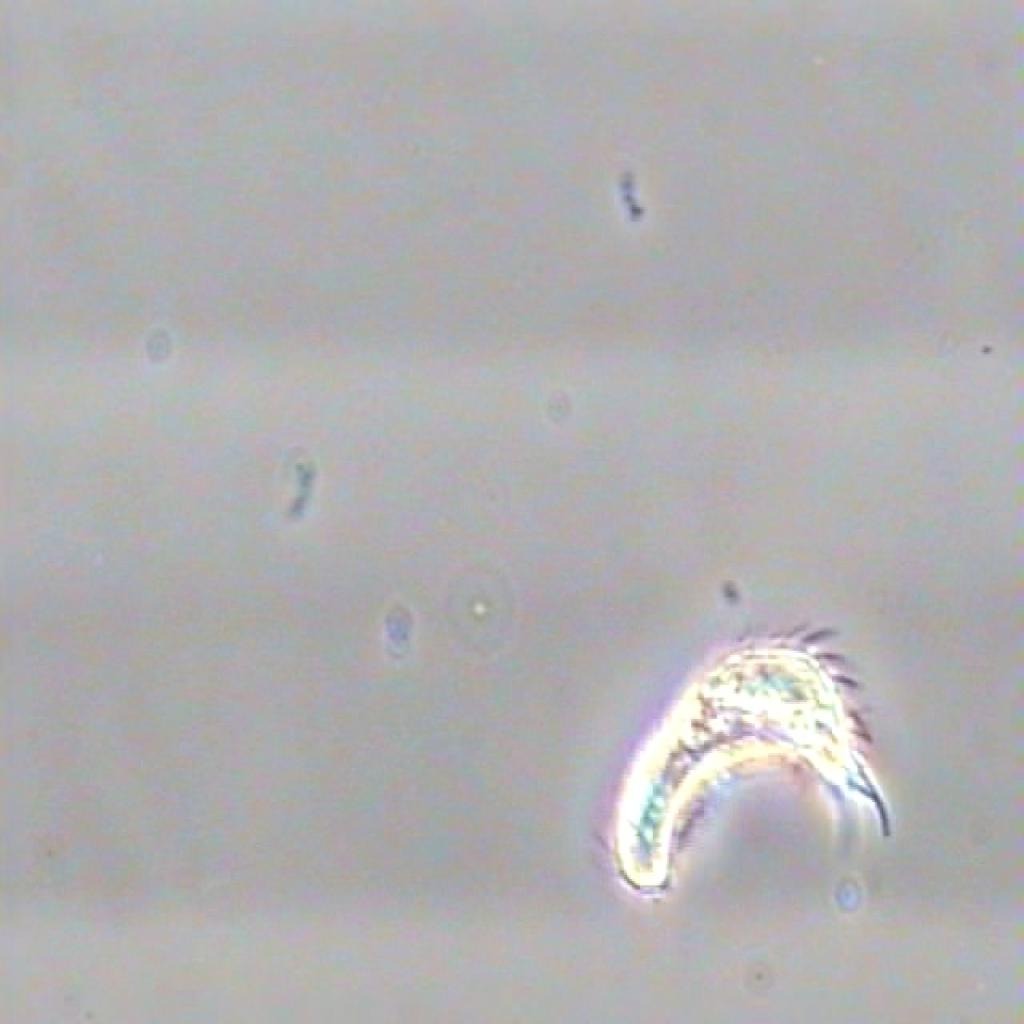Chaetonotus: (577, 594, 911, 910)
